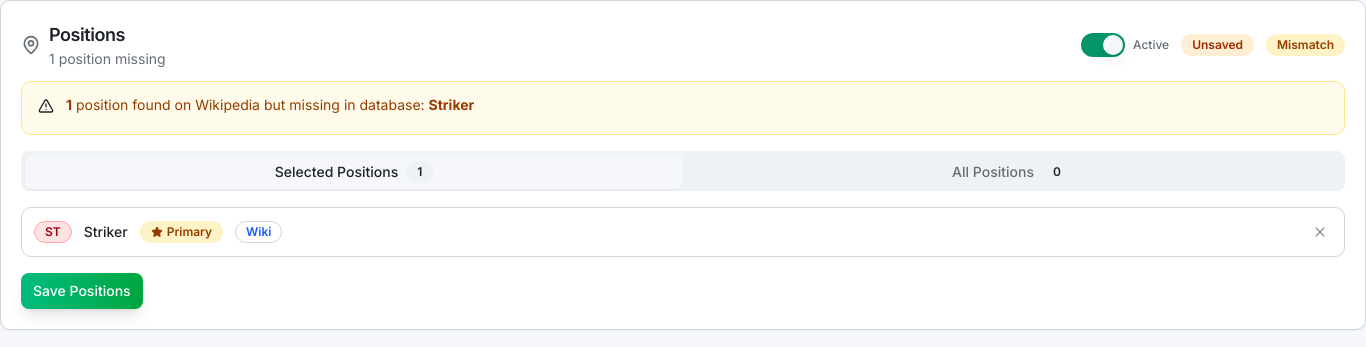
Test: PositionCard › calls setPositions API when Save button clicked for unsaved positions
Click the button "Save Positions" at point(82, 291), box [21,273,143,309]
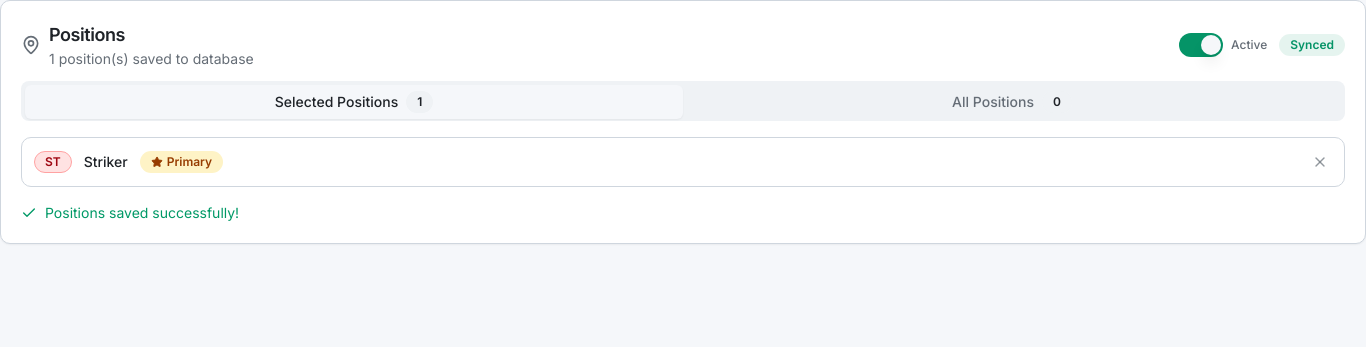
Expected: the text "Positions saved successfully!" is shown, [21,204,239,221]
